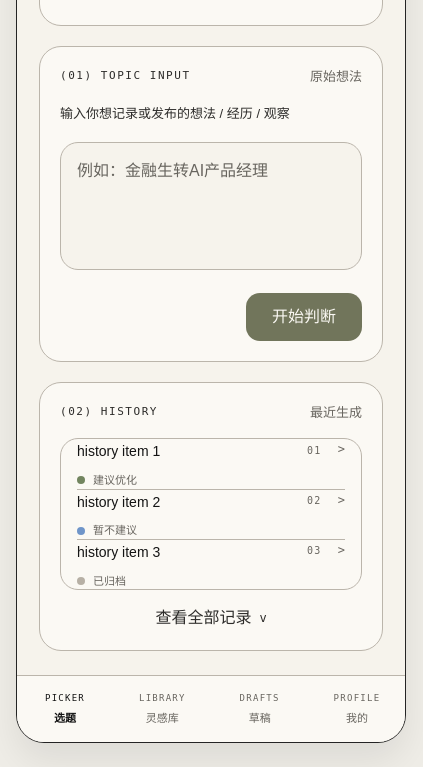
TopicPilotApp › shows only the latest three history items by default and expands on demand
(page scrolled)
Check: the text "history item 4" is not shown
Check: the text "history item 5" is not shown
Click the button "查看全部记录 v": (211, 618) [60,606,362,630]
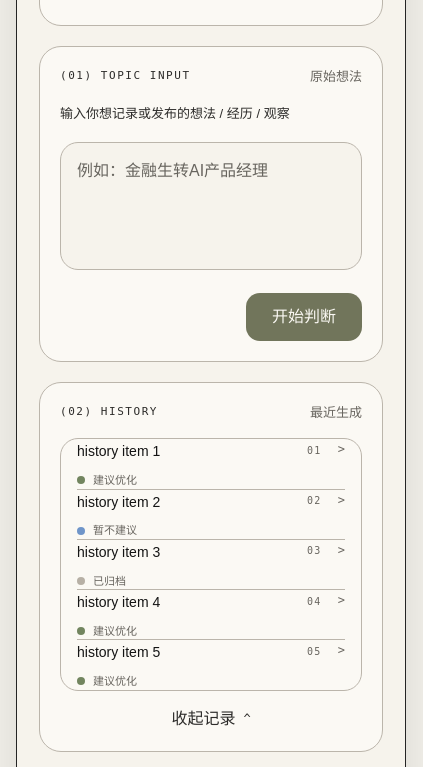
Check: the text "history item 4" is shown, box [77,594,160,610]
Check: the text "history item 5" is shown, box [77,644,160,660]
Check: the text "收起记录" is shown, box [171,707,235,731]
Click the button "收起记录 ^": (211, 719) [60,707,362,731]
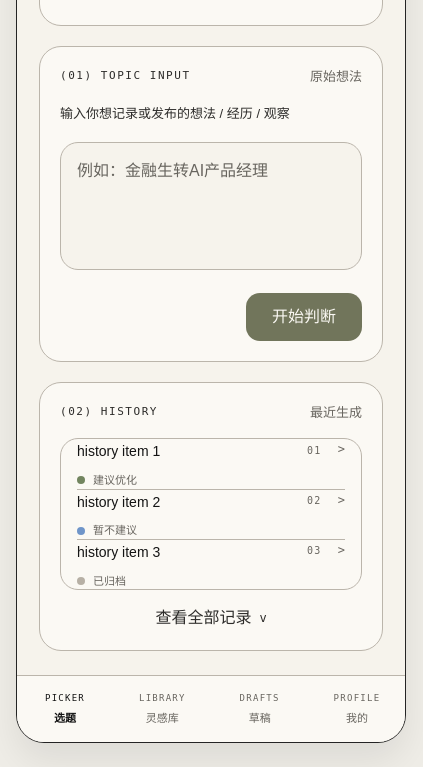
Check: the text "history item 4" is gone
Check: the text "history item 5" is gone
